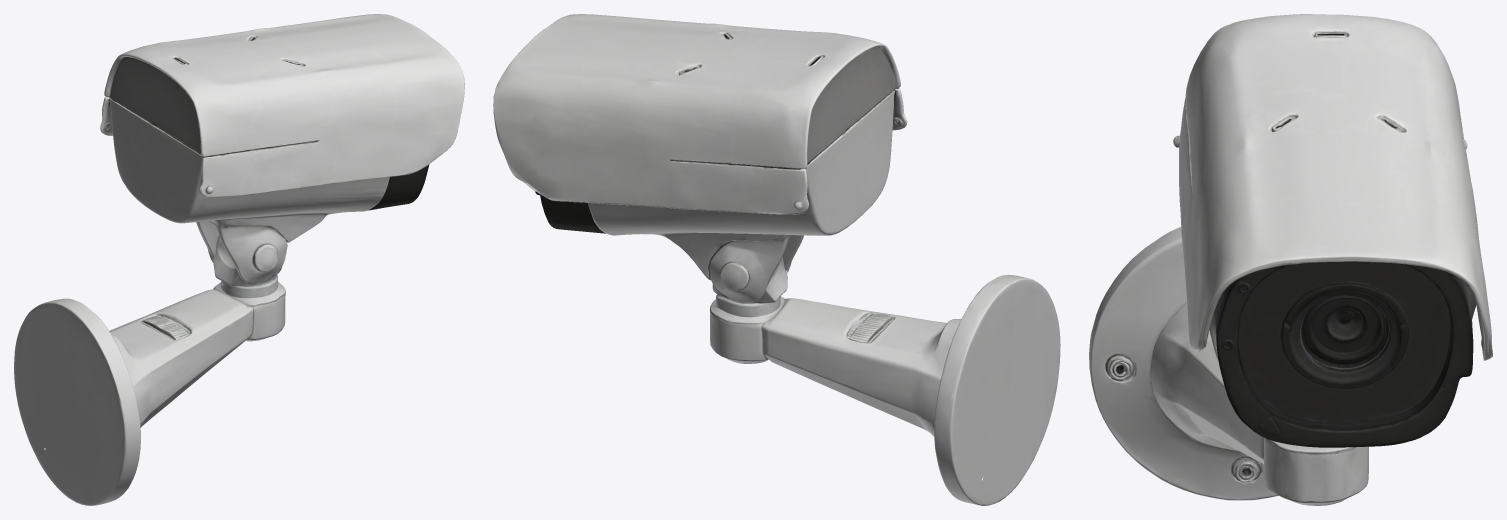
File: camera.glb
3 views of the same model, side by side, from view 1: azimuth 30°, elevation 25°; view 2: azimuth 150°, elevation 25°; view 3: azimuth 270°, elevation 25° (orthographic). The views are drawn at different scales.
Visible parts, largest first — view 1: head, base; view 2: head, base; view 3: head, base.
Boxes of the visible parts, x1,y1,x2,y2 form: head: [100, 14, 464, 295]; base: [14, 281, 285, 505]; head: [493, 14, 907, 313]; base: [710, 274, 1060, 505]; head: [1173, 14, 1492, 447]; base: [1089, 227, 1368, 505].
Size of the model in its own units: 0.2671 by 0.25 by 0.1635.
Materials: 1 (1 with a texture image).
